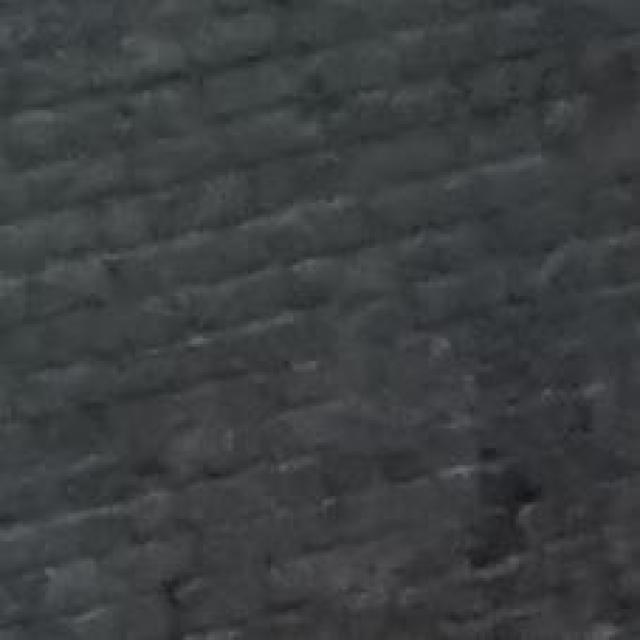Crack: (389, 367, 640, 640)
